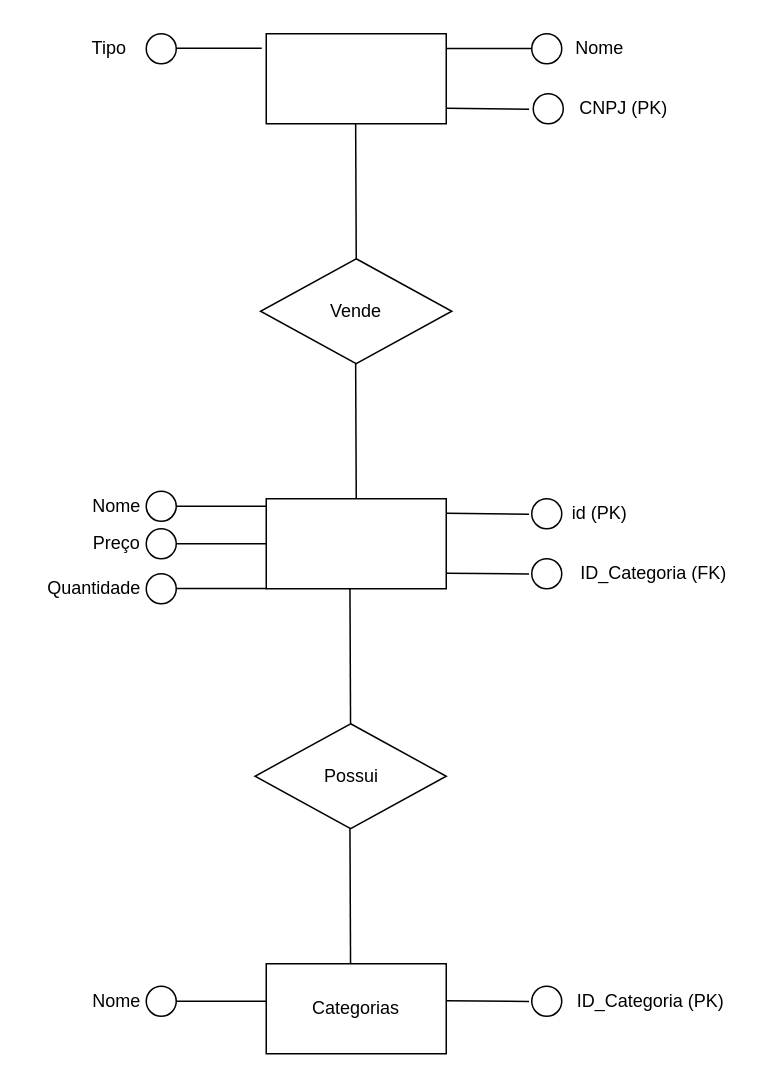
This 768x1080 diagram has some shape labels left out. Each missing label, with the centre of its shape:
Empresa: the point at 355,78
Produto: the point at 355,543
